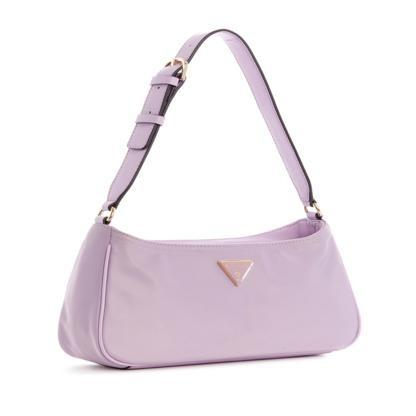not trash: (57, 29, 362, 367)
